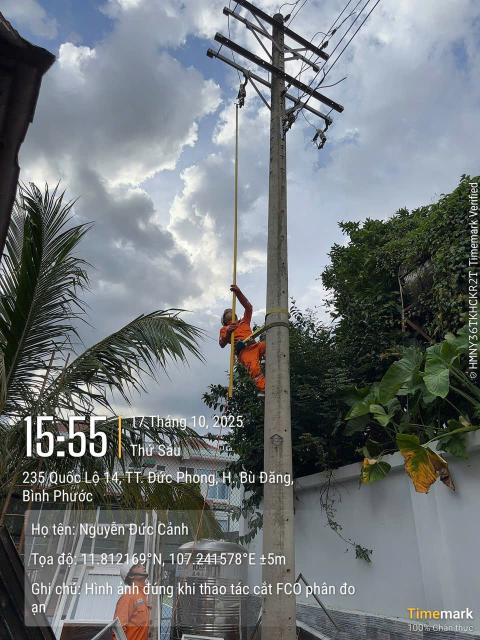gloves: (229, 281, 260, 317), (206, 322, 244, 348)
harness: (232, 332, 257, 358)
helmet: (216, 304, 241, 323)
